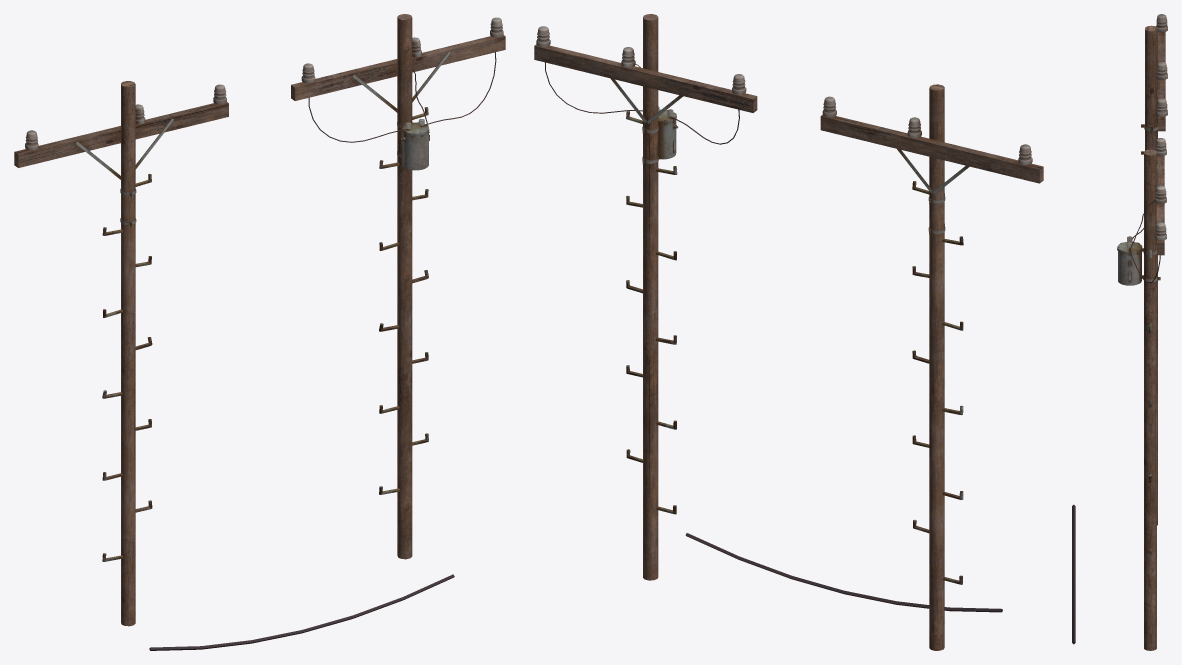
Rendered from telephone_poles.glb.
3 views of the same model, side by side, from view 1: azimuth 30°, elevation 25°; view 2: azimuth 150°, elevation 25°; view 3: azimuth 270°, elevation 25° (orthographic). The views are drawn at different scales.
Visible parts, largest first — view 1: pCylinder34 (×2), polySurface105 (×2), pCylinder59, pCylinder37; view 2: pCylinder34 (×2), polySurface105 (×2), pCylinder59, pCylinder37; view 3: pCylinder34 (×2), polySurface105 (×2), pCylinder37, pCylinder59, pSphere17 (×2), pSphere16 (×2), pSphere15 (×2), polySurface120.
Boxes of the visible parts, x1,y1,x2,y2 form: pCylinder34 (×2): [121, 14, 412, 626]; polySurface105 (×2): [14, 35, 505, 167]; pCylinder59: [149, 574, 454, 650]; pCylinder37: [402, 122, 428, 170]; pCylinder34 (×2): [643, 14, 944, 650]; polySurface105 (×2): [534, 44, 1043, 183]; pCylinder59: [685, 533, 1002, 612]; pCylinder37: [658, 110, 676, 159]; pCylinder34 (×2): [1144, 25, 1157, 650]; polySurface105 (×2): [1157, 32, 1165, 255]; pCylinder37: [1117, 242, 1141, 285]; pCylinder59: [1072, 504, 1075, 644]; pSphere17 (×2): [1155, 98, 1167, 240]; pSphere16 (×2): [1155, 61, 1167, 203]; pSphere15 (×2): [1155, 14, 1167, 156]; polySurface120: [1148, 248, 1152, 557].
Bounding box in the file's own units: 29.1 × 31.44 × 5.4.
Materials: 3 (3 with a texture image).
